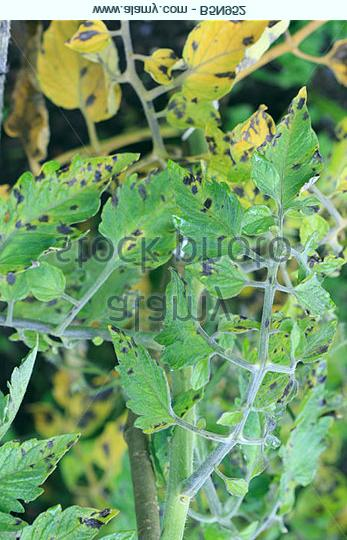Tomato Early blight leaf: (1, 152, 143, 234), (257, 81, 325, 208), (109, 323, 182, 438), (164, 166, 250, 259), (1, 427, 86, 503)
